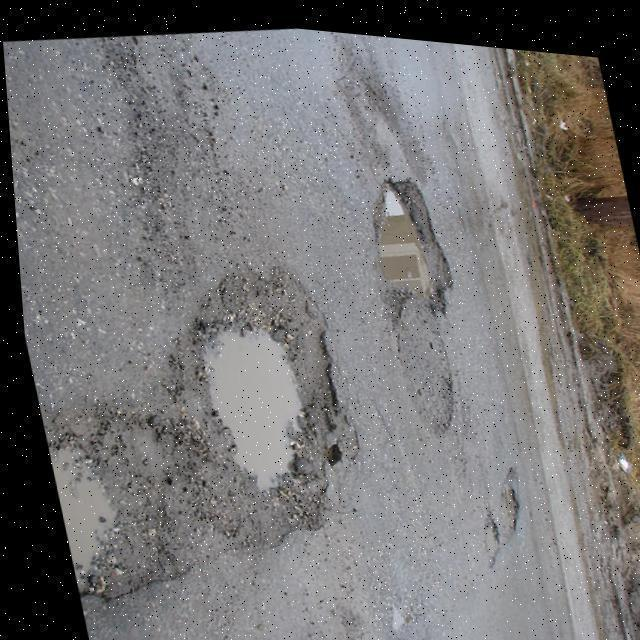Pothole: (169, 270, 354, 558), (42, 406, 197, 602), (371, 176, 461, 322), (500, 468, 521, 532), (485, 508, 502, 565)
